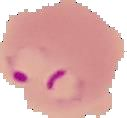parasitized: (4, 38, 89, 105)
